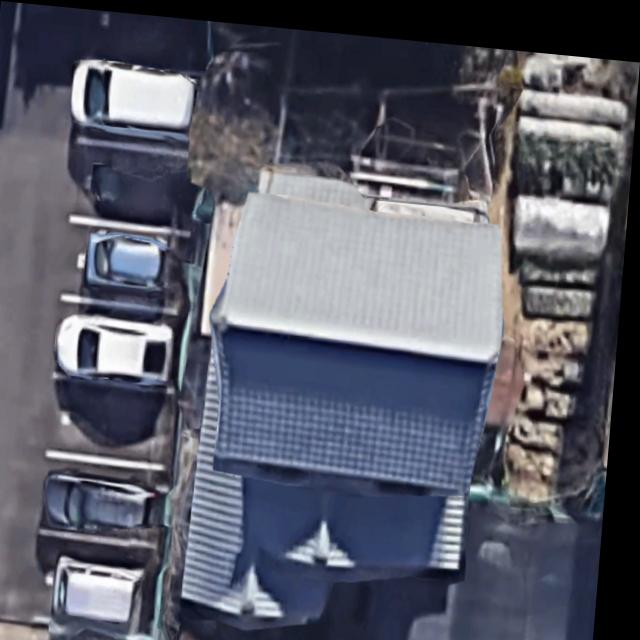Batiment: (192, 187, 506, 618)
